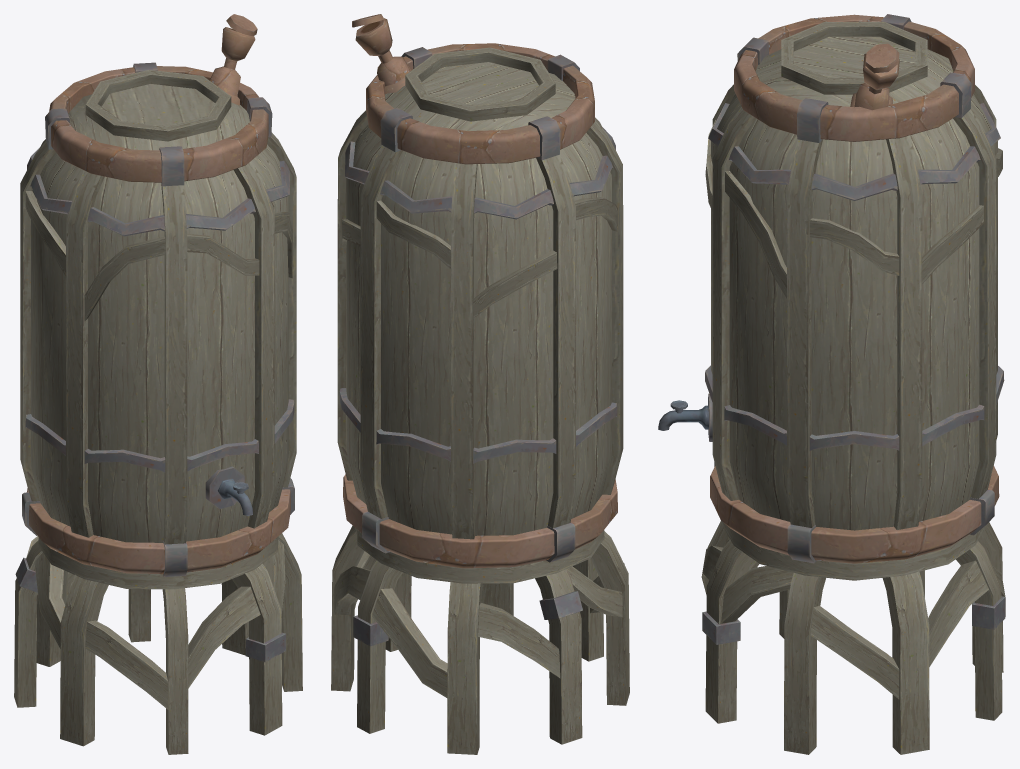
The model's file is Homeworld_Exterior_Fd_Build_YwShuita_01_Lod0.fbx.
3 views of the same model, side by side, from view 1: azimuth 30°, elevation 25°; view 2: azimuth 150°, elevation 25°; view 3: azimuth 270°, elevation 25° (orthographic). The views are drawn at different scales.
Parts seen in each view (by area): view 1: Area_Fd_Build_Common_Minju_D_01_Lod0; view 2: Area_Fd_Build_Common_Minju_D_01_Lod0; view 3: Area_Fd_Build_Common_Minju_D_01_Lod0.
Part boxes in pixels (box(x1,y1,x2,y2)): Area_Fd_Build_Common_Minju_D_01_Lod0: box(14, 14, 302, 754); Area_Fd_Build_Common_Minju_D_01_Lod0: box(331, 14, 629, 754); Area_Fd_Build_Common_Minju_D_01_Lod0: box(658, 14, 1005, 754).
Size of the model in its own units: 4.19 by 10.71 by 4.86.
